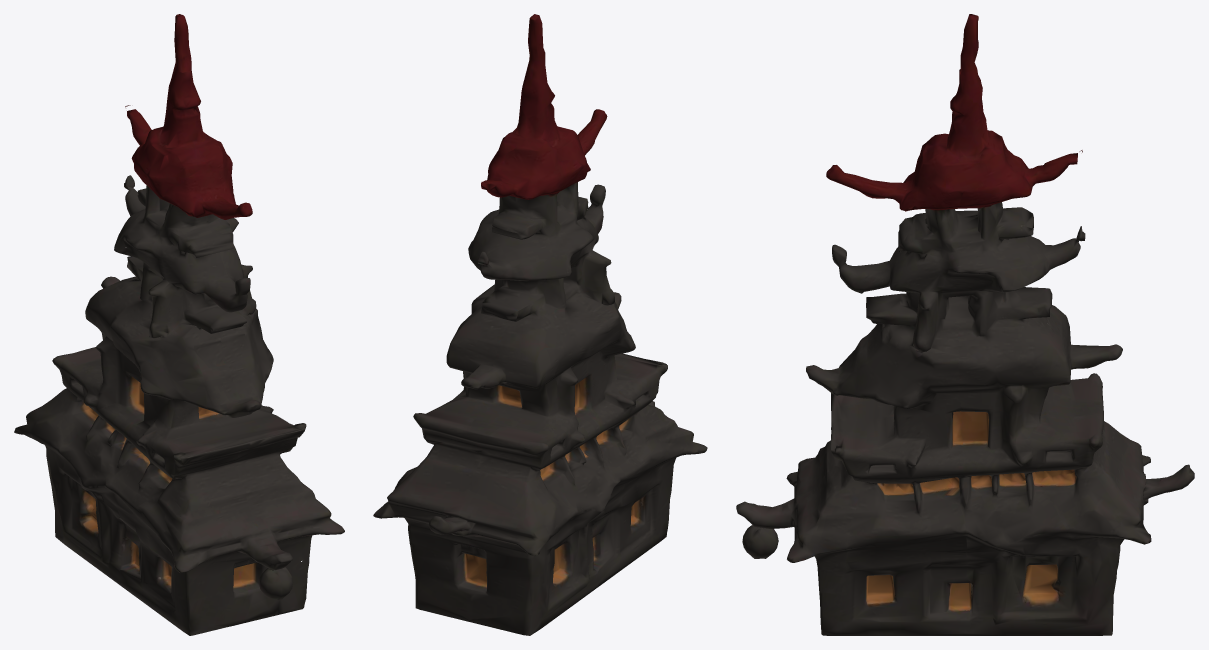
The model's file is pagoda-lite.glb.
3 renders of one model, left to right at view 1: azimuth 30°, elevation 25°; view 2: azimuth 150°, elevation 25°; view 3: azimuth 270°, elevation 25°, orthographic. The views are drawn at different scales.
Parts seen in each view (by area): view 1: tripo_node_bc37bd27-9546-4553-a82c-38eea80a7773; view 2: tripo_node_bc37bd27-9546-4553-a82c-38eea80a7773; view 3: tripo_node_bc37bd27-9546-4553-a82c-38eea80a7773.
Boxes of the visible parts, x1,y1,x2,y2 form: tripo_node_bc37bd27-9546-4553-a82c-38eea80a7773: (14, 14, 344, 635); tripo_node_bc37bd27-9546-4553-a82c-38eea80a7773: (373, 14, 707, 635); tripo_node_bc37bd27-9546-4553-a82c-38eea80a7773: (736, 14, 1194, 635).
Bounding box in the file's own units: 0.3091 × 0.9792 × 0.687.
Materials: 1 (1 with a texture image).
